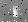person: (15, 7, 23, 18)
